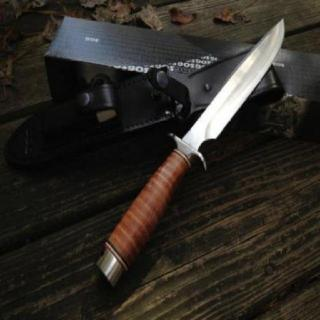knife: (184, 11, 291, 150)
